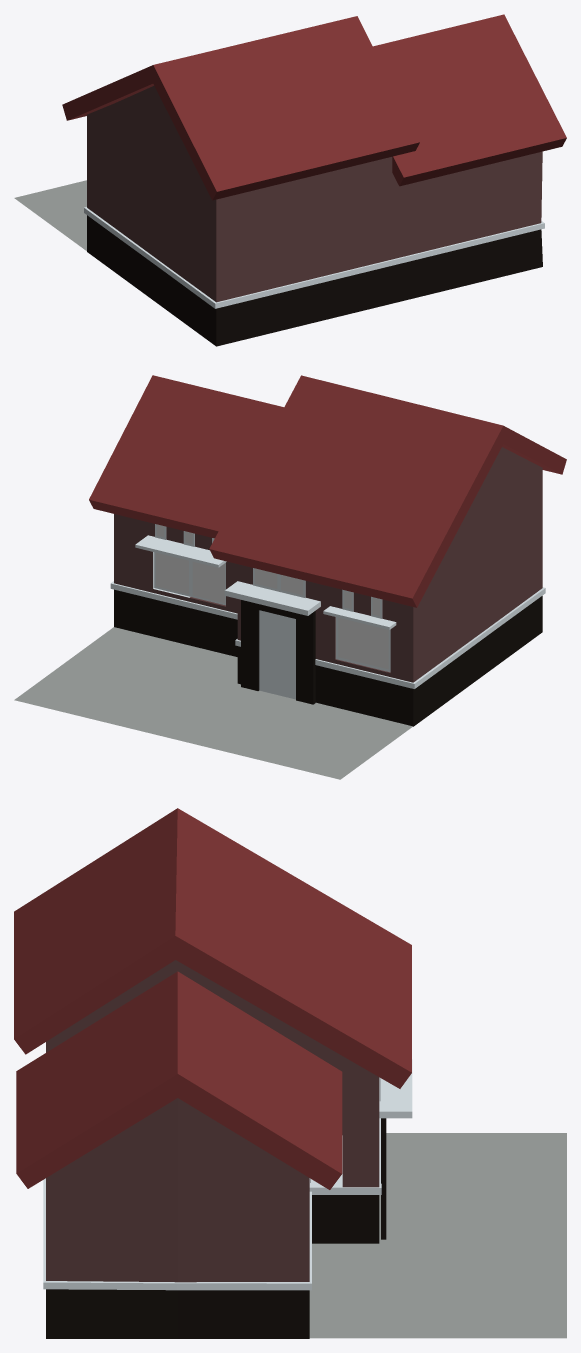
File: rumah  kecil.fbx
3 views of the same model, one above another, from view 1: azimuth 30°, elevation 25°; view 2: azimuth 150°, elevation 25°; view 3: azimuth 270°, elevation 25° (orthographic). The views are drawn at different scales.
Visible parts, largest first — view 1: Cube.302; view 2: Cube.302; view 3: Cube.302.
Boxes of the visible parts, x1,y1,x2,y2 form: Cube.302: (14, 14, 566, 346); Cube.302: (14, 375, 566, 779); Cube.302: (14, 808, 566, 1338).
Bounding box in the file's own units: 19.92 × 13.41 × 21.12.
